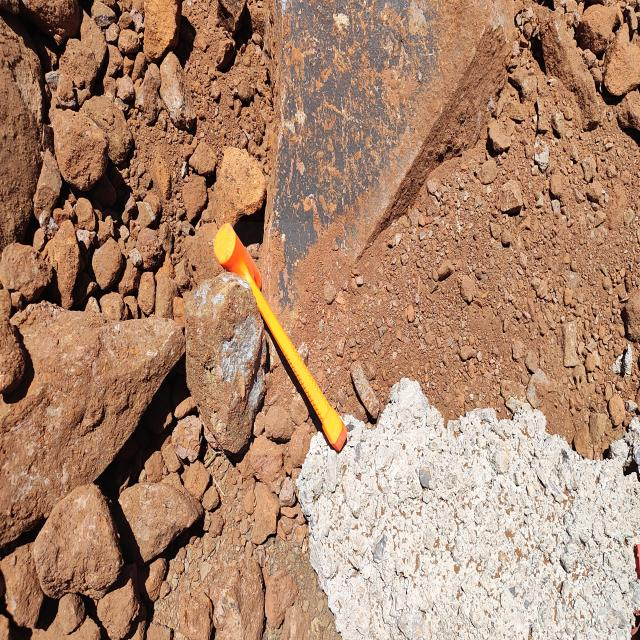Orange_hammer: (213, 222, 348, 454)
